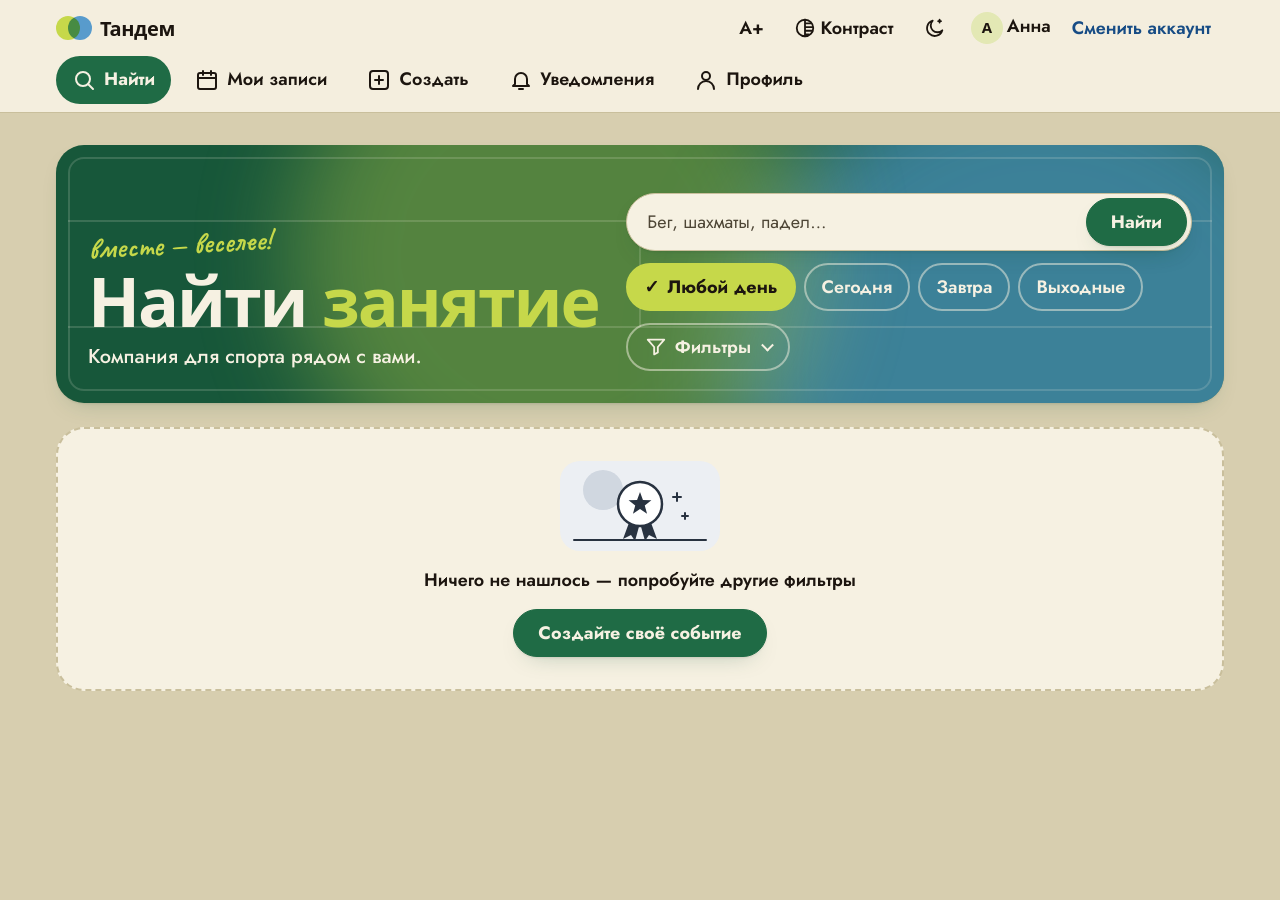
переключатели «Крупный текст» и «Высокий контраст» › после выхода сбой прежнего аккаунта не показывается
Expected: the button "Сменить аккаунт" is shown, [1059,4,1224,52]
Click the button named "Крупный текст" at (752, 28), box [726,4,777,52]
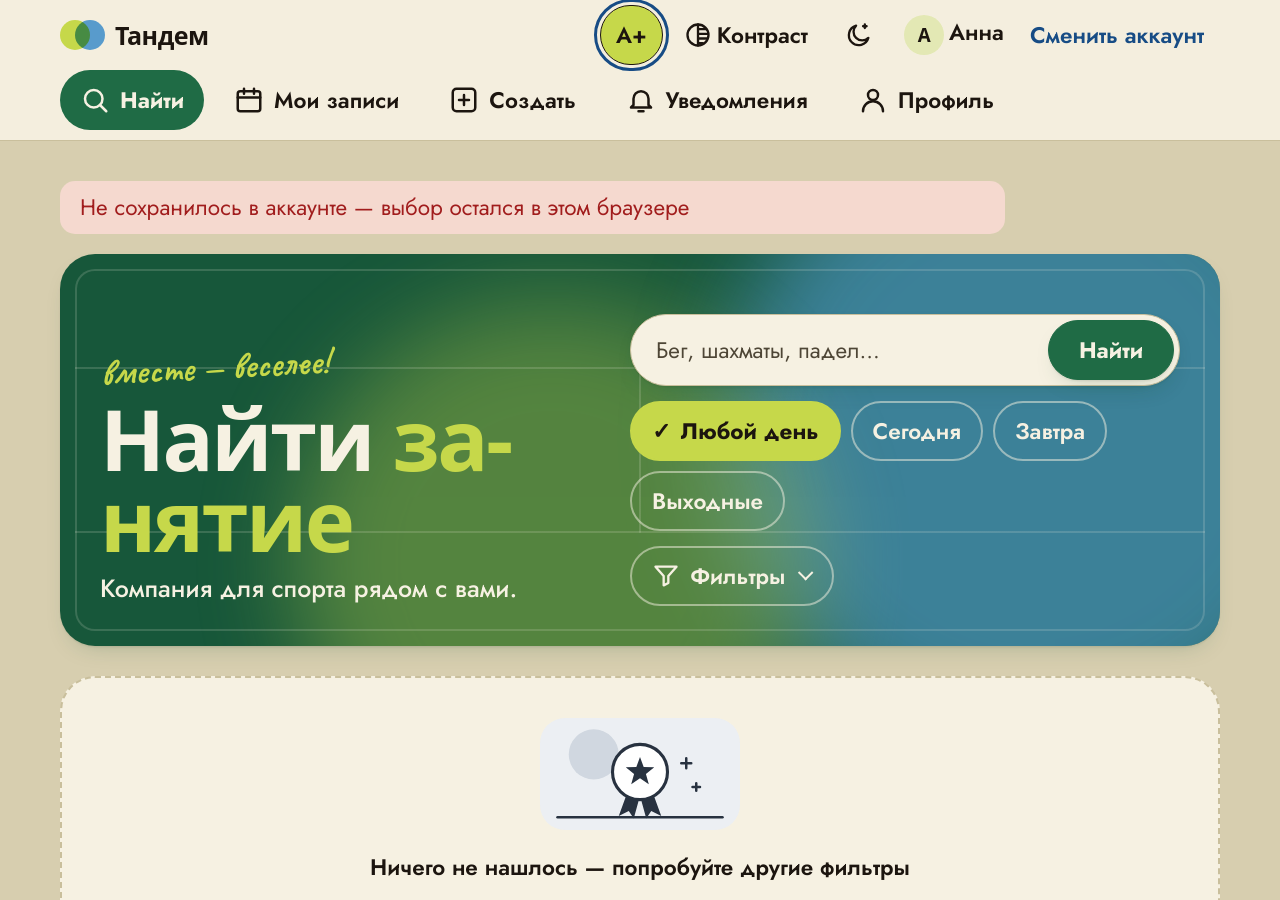
Now the message "Не сохранилось в аккаунте — выбор остался в этом браузере" is shown, box [60,181,1005,234]
Click the button "Сменить аккаунт" at (1117, 35), box [1014,5,1220,65]
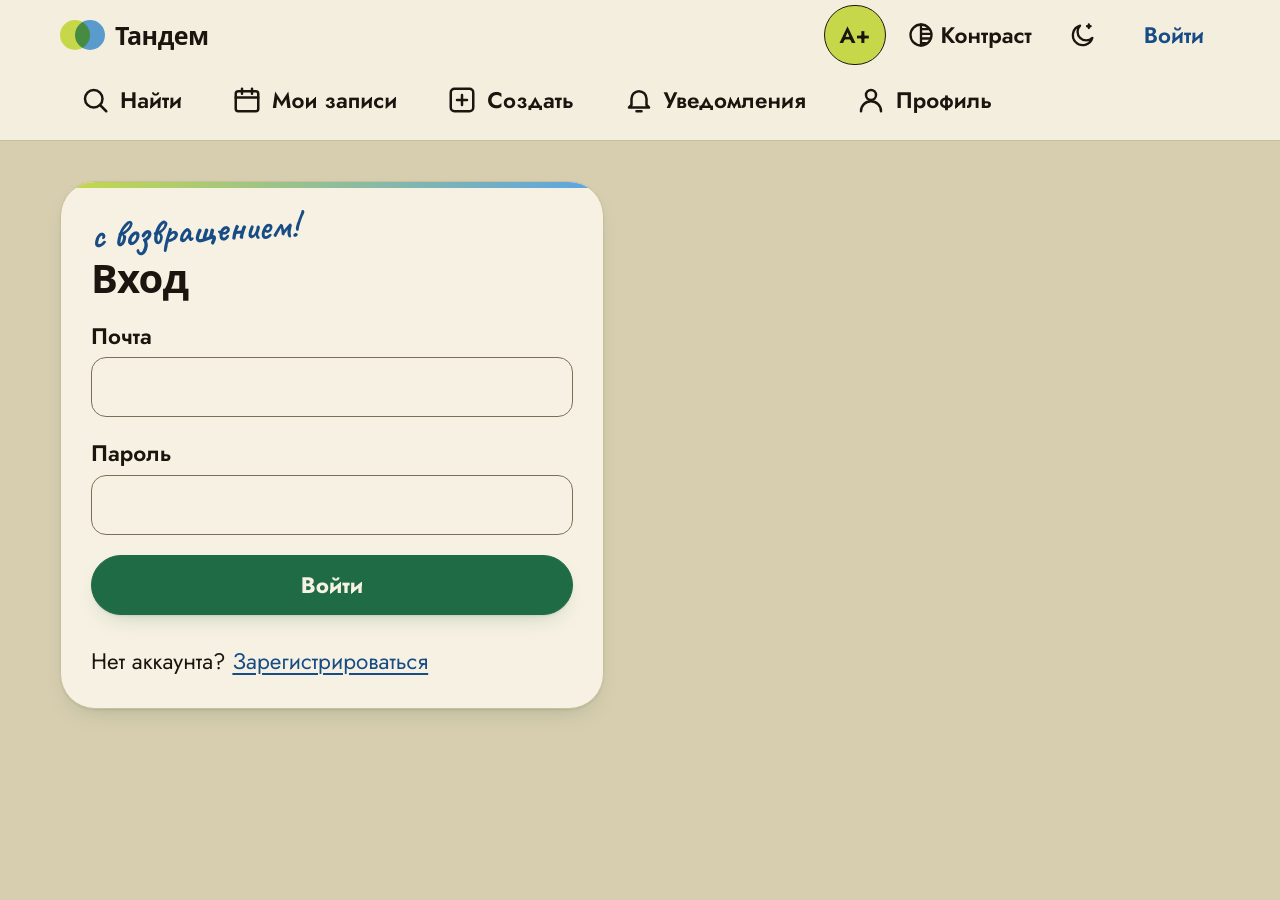
Now the heading "Вход" is shown, box [91,250,188,305]
Now the text "Не сохранилось в аккаунте" is gone
